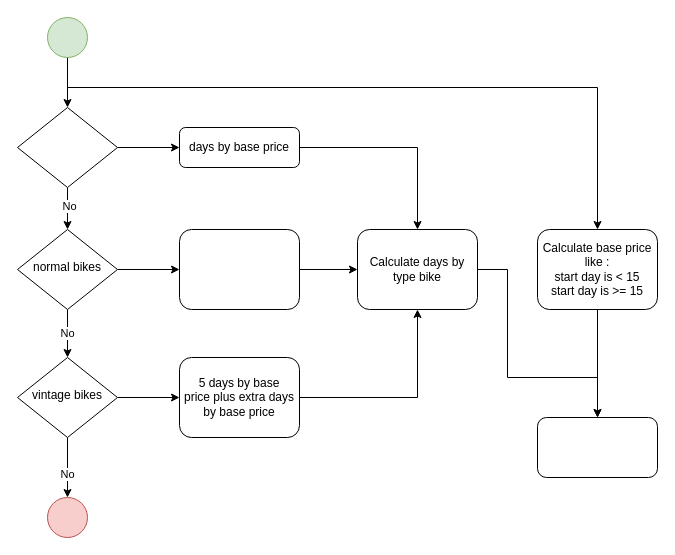
The diagram is 675 pixels wide and 555 high, and some of its shapes have lost their labels. Each missing label, with the centre of its shape:
3 days by base price plus extra days by base price: point (239, 269)
Calculate cost booking by type bike: point (597, 447)
electrical bikes: point (67, 147)
